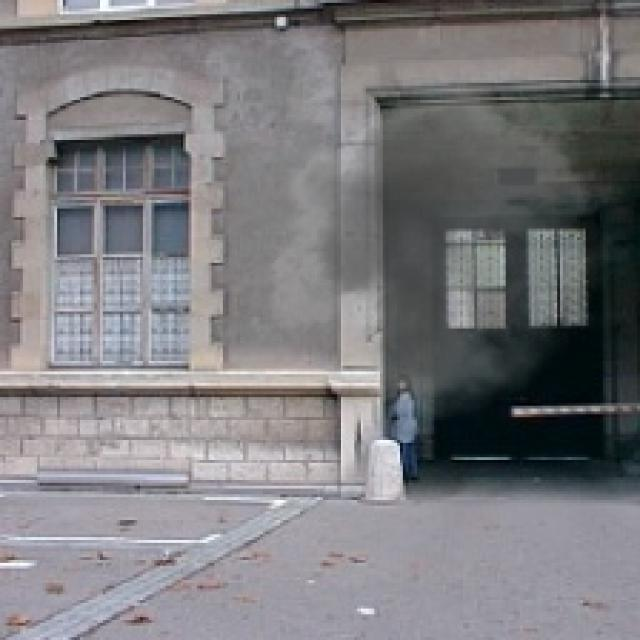Smoke: (252, 68, 632, 420)
